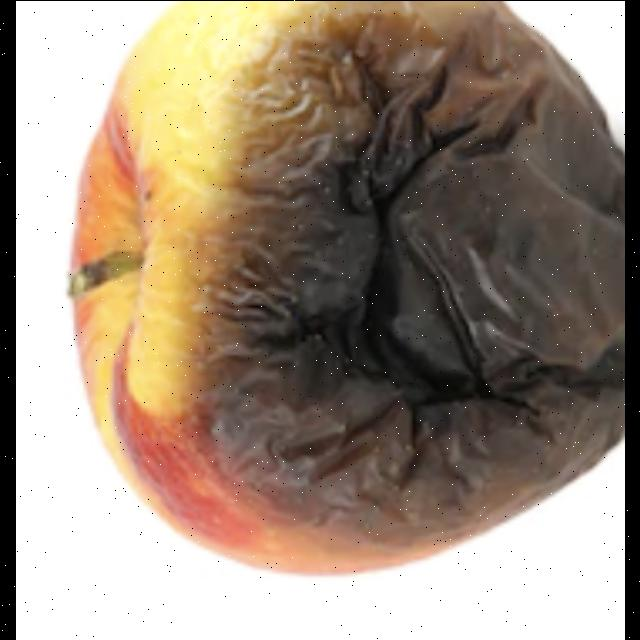Apel Tidak Segar: (48, 0, 624, 588)
